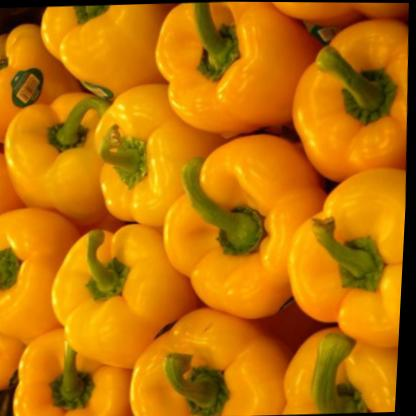bell_pepper: (162, 122, 327, 329), (283, 158, 410, 356), (150, 1, 313, 154), (286, 2, 415, 193), (48, 218, 193, 361), (82, 76, 219, 222), (126, 309, 302, 416)
